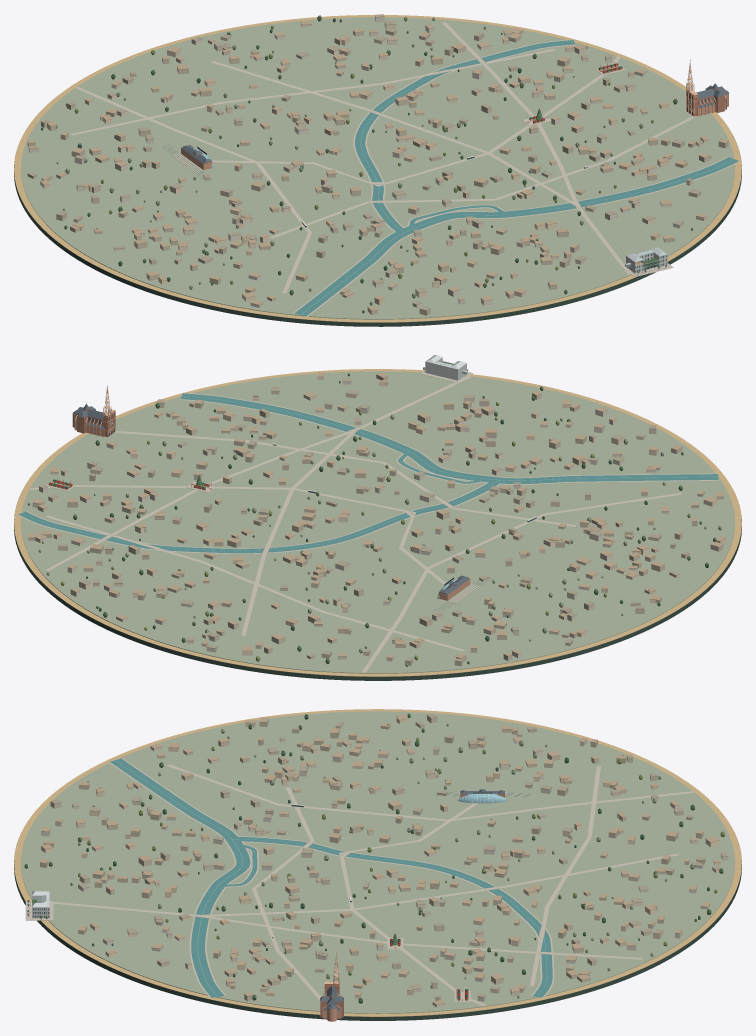
Rendered from strasbourg-studio.glb.
3 views of the same model, one above another, from view 1: azimuth 30°, elevation 25°; view 2: azimuth 150°, elevation 25°; view 3: azimuth 270°, elevation 25° (orthographic).
Visible parts, largest first — view 1: 05 / City • engraved map, 05 / City • urban fabric, 05 / City • cathedral, 05 / City • railway station, 03 / IHU • metal envelope; view 2: 05 / City • engraved map, 05 / City • urban fabric, 05 / City • cathedral, 05 / City • railway station, 03 / IHU • metal envelope; view 3: 05 / City • engraved map, 05 / City • urban fabric, 05 / City • cathedral, 05 / City • railway station.
Boxes of the visible parts, x1,y1,x2,y2 form: 05 / City • engraved map: (14,15,741,326); 05 / City • urban fabric: (27,14,728,315); 05 / City • cathedral: (686,59,728,116); 05 / City • railway station: (162,144,213,181); 03 / IHU • metal envelope: (625,247,667,273); 05 / City • engraved map: (14,369,741,680); 05 / City • urban fabric: (28,372,725,666); 05 / City • cathedral: (72,385,115,437); 05 / City • railway station: (436,575,491,610); 03 / IHU • metal envelope: (425,355,467,380); 05 / City • engraved map: (14,709,741,1020); 05 / City • urban fabric: (24,713,728,1007); 05 / City • cathedral: (320,952,343,1021); 05 / City • railway station: (435,789,529,803).
Bounding box in the file's own units: 577 × 49.38 × 565.
Materials: 70 (2 with a texture image).
